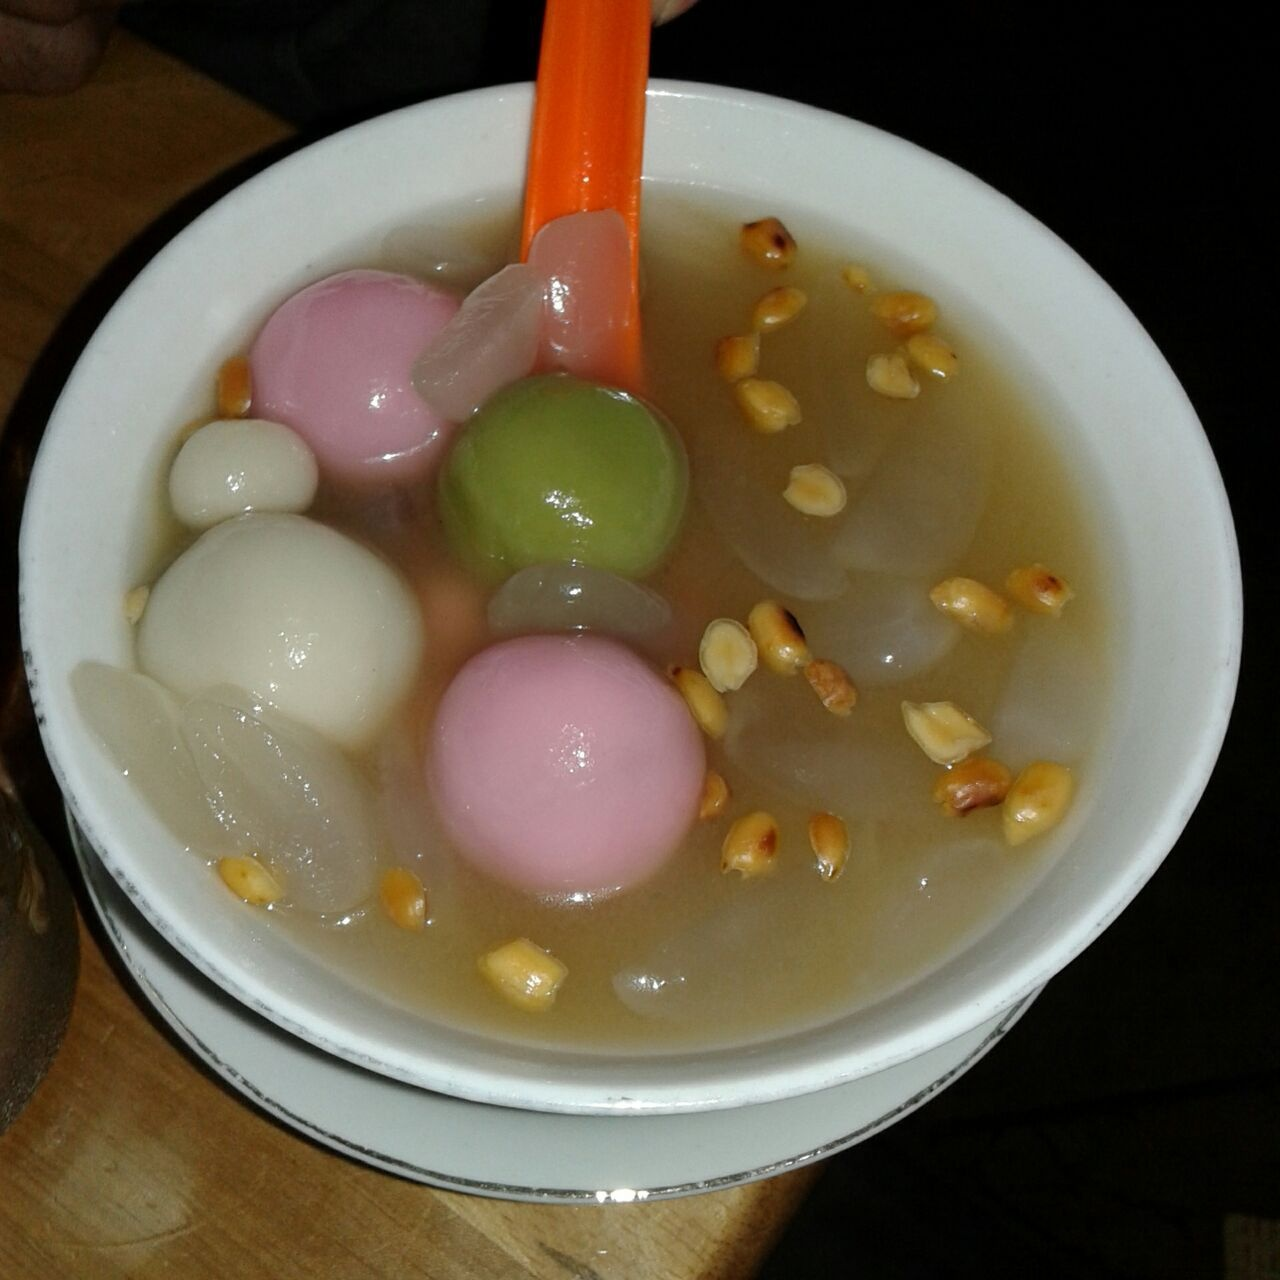ronde: (136, 225, 1144, 1051)
